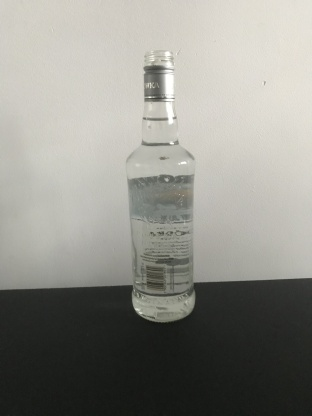nakretka: (141, 49, 176, 103)
